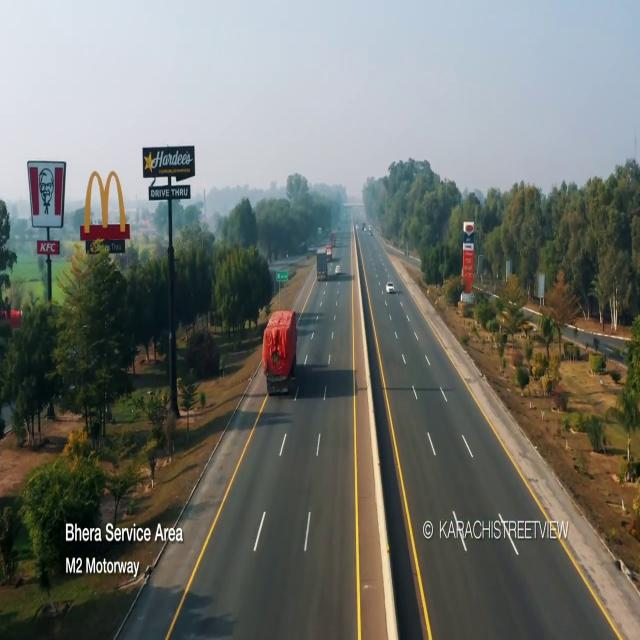car: (384, 281, 397, 297), (335, 263, 343, 276)
truck: (261, 306, 300, 399), (315, 244, 330, 284)
